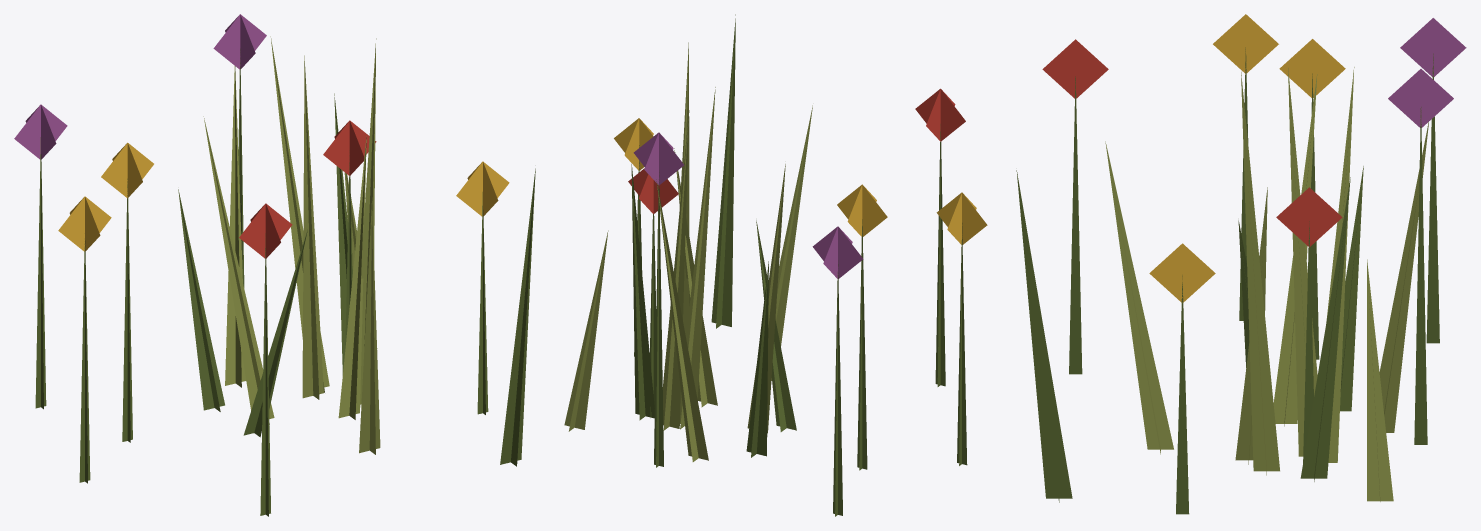
The model's file is vegetation-wildflower-cluster.glb.
The picture shows the model from 3 angles, left to right: view 1: azimuth 30°, elevation 25°; view 2: azimuth 150°, elevation 25°; view 3: azimuth 270°, elevation 25°; orthographic projection. The views are drawn at different scales.
Visible parts, largest first — view 1: vegetation-wildflower-cluster; view 2: vegetation-wildflower-cluster; view 3: vegetation-wildflower-cluster.
Boxes of the visible parts, bbox=[...] form: vegetation-wildflower-cluster: bbox=[14, 14, 535, 516]; vegetation-wildflower-cluster: bbox=[564, 14, 987, 516]; vegetation-wildflower-cluster: bbox=[1016, 14, 1466, 514].
Bounding box in the file's own units: 0.7087 × 0.6012 × 0.6088.
